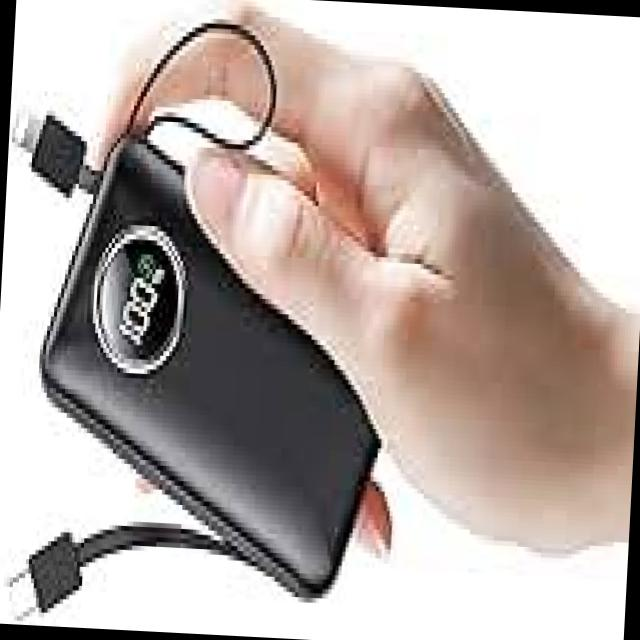portable-charger: (21, 123, 408, 606)
